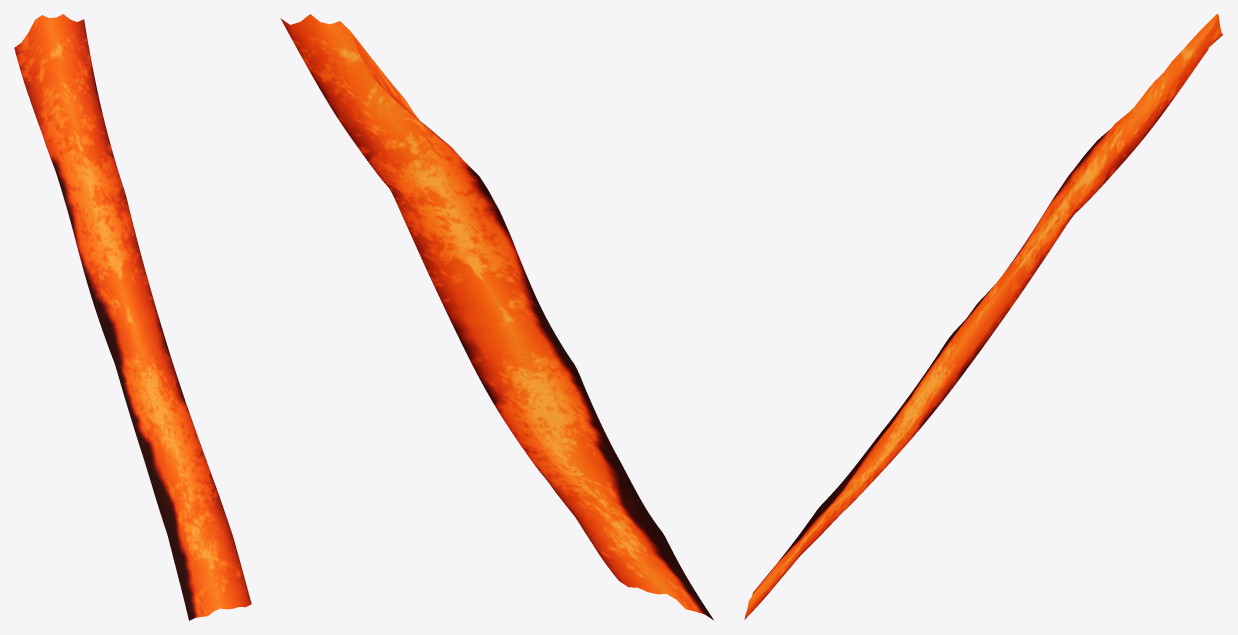
File: flow_2_2.glb
3 renders of one model, left to right at view 1: azimuth 30°, elevation 25°; view 2: azimuth 150°, elevation 25°; view 3: azimuth 270°, elevation 25°, orthographic. The views are drawn at different scales.
Bounding box in the file's own units: 2.58 × 16.07 × 11.69.
